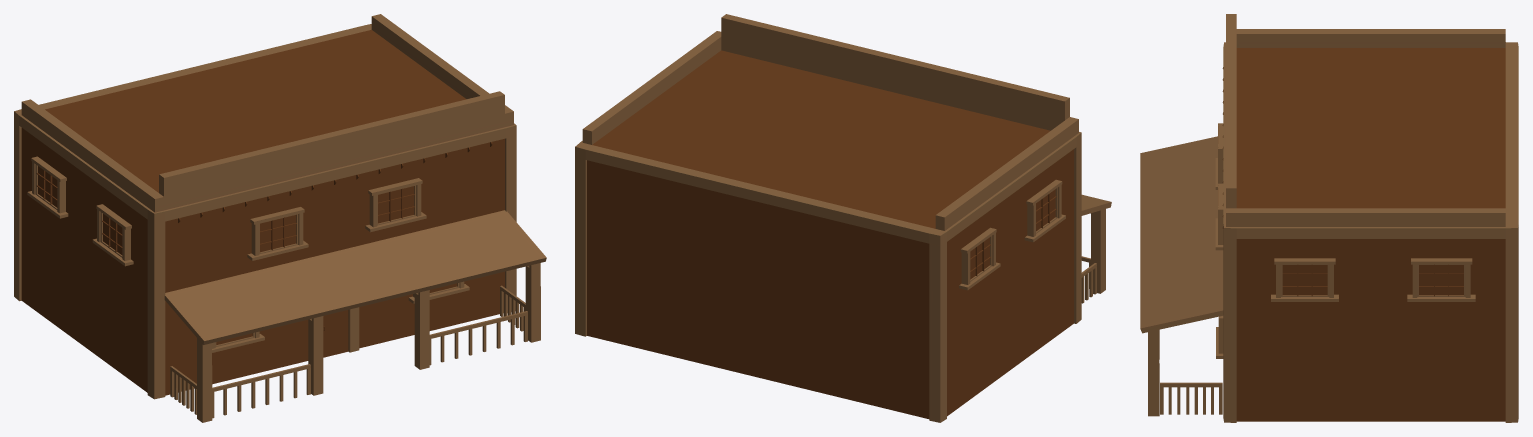
File: CasaV1.fbx
3 renders of one model, left to right at view 1: azimuth 30°, elevation 25°; view 2: azimuth 150°, elevation 25°; view 3: azimuth 270°, elevation 25°, orthographic. The views are drawn at different scales.
Parts seen in each view (by area): view 1: BaseCasa, Telhado, PilarCasa, Janela, Porta; view 2: BaseCasa, Janela, PilarCasa; view 3: BaseCasa, Telhado, Janela, PilarCasa.
Boxes of the visible parts, <box> form: BaseCasa: <box>14,14,516,399</box>; Telhado: <box>164,210,546,344</box>; PilarCasa: <box>170,263,540,422</box>; Janela: <box>27,156,469,352</box>; Porta: <box>323,307,359,357</box>; BaseCasa: <box>575,14,1081,422</box>; Janela: <box>959,179,1065,290</box>; PilarCasa: <box>1081,209,1105,303</box>; BaseCasa: <box>1222,14,1518,422</box>; Telhado: <box>1140,136,1223,333</box>; Janela: <box>1215,123,1475,358</box>; PilarCasa: <box>1148,329,1222,416</box>.
Bounding box in the file's own units: 1571 × 870 × 1306.
